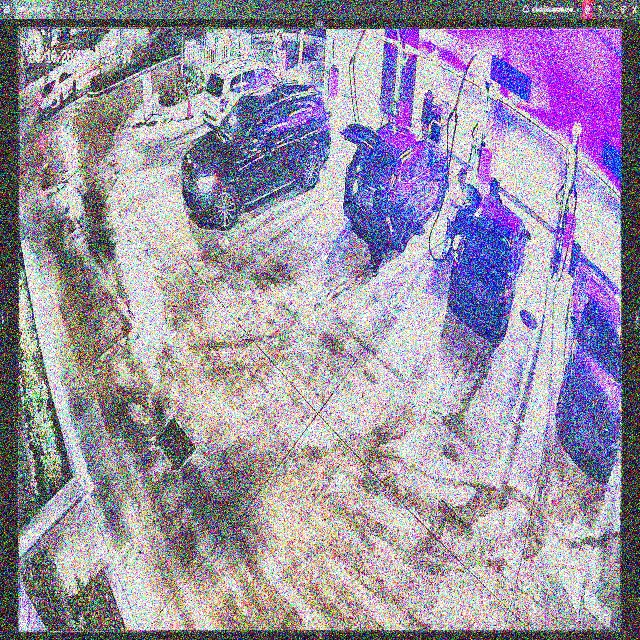Car: (182, 80, 332, 221), (342, 116, 448, 244), (448, 174, 528, 343)
